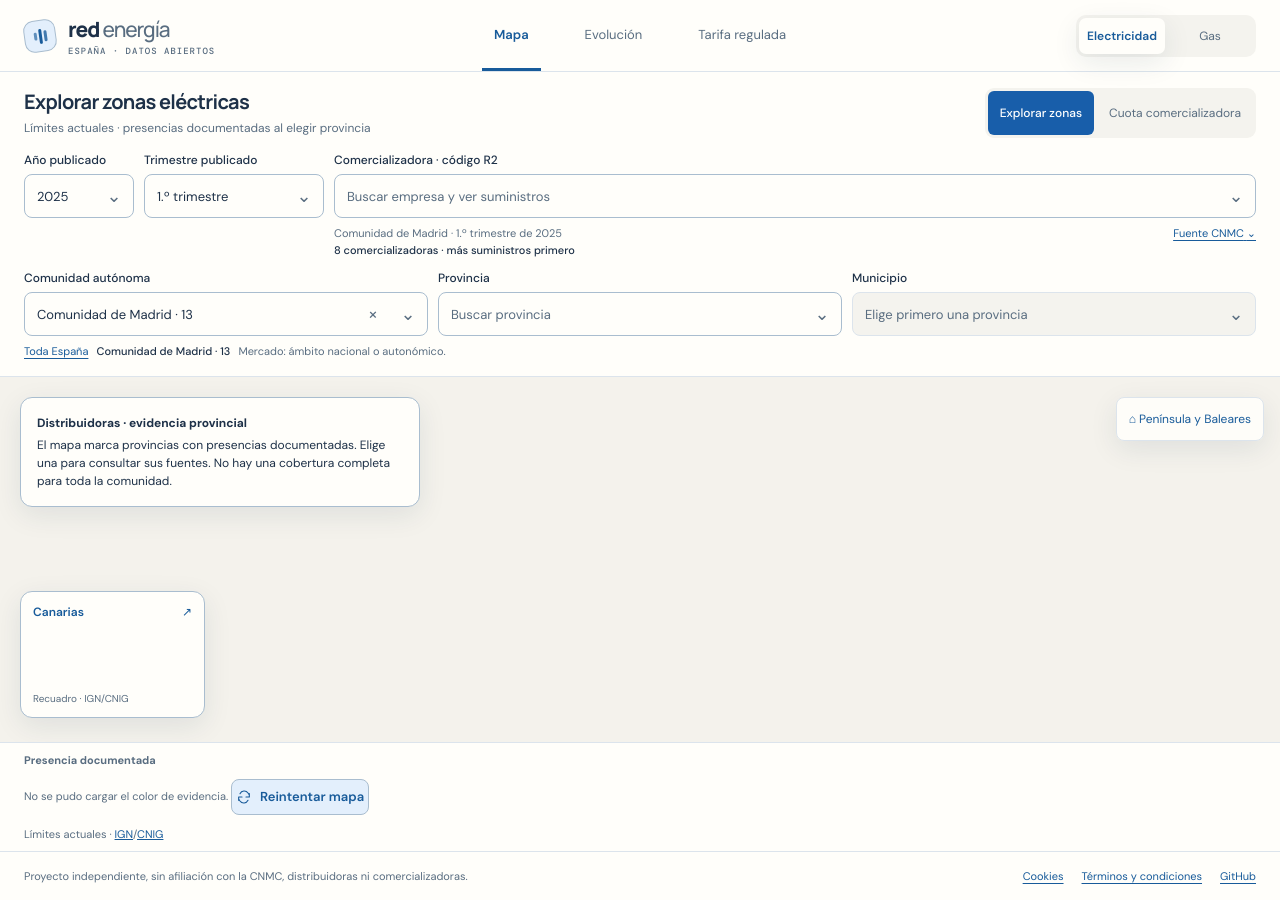
Test: map home route › shows supply counts in company search and selects without losing shared context
Check: the dropdown labelled "Comunidad autónoma" is enabled, box left=24, top=292, right=428, bottom=336
Focus the dropdown labelled "Comercializadora · código R2" at [795, 196], box left=334, top=174, right=1256, bottom=218
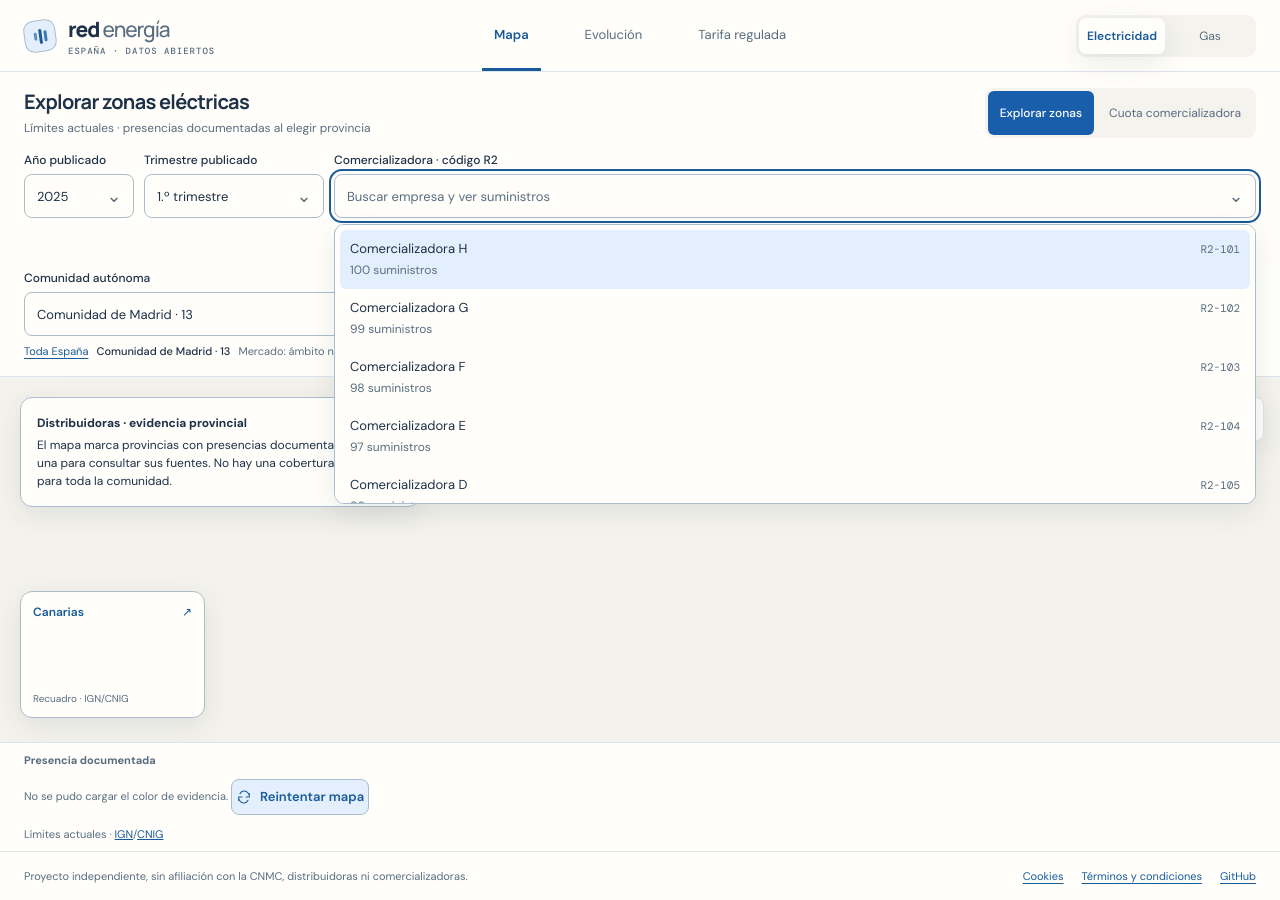
Check: the option "Comercializadora H R2-101 100 suministros" is shown, box left=340, top=230, right=1250, bottom=289
Type "r2-108" into the dropdown labelled "Comercializadora · código R2" at [795, 196], box left=334, top=174, right=1256, bottom=218
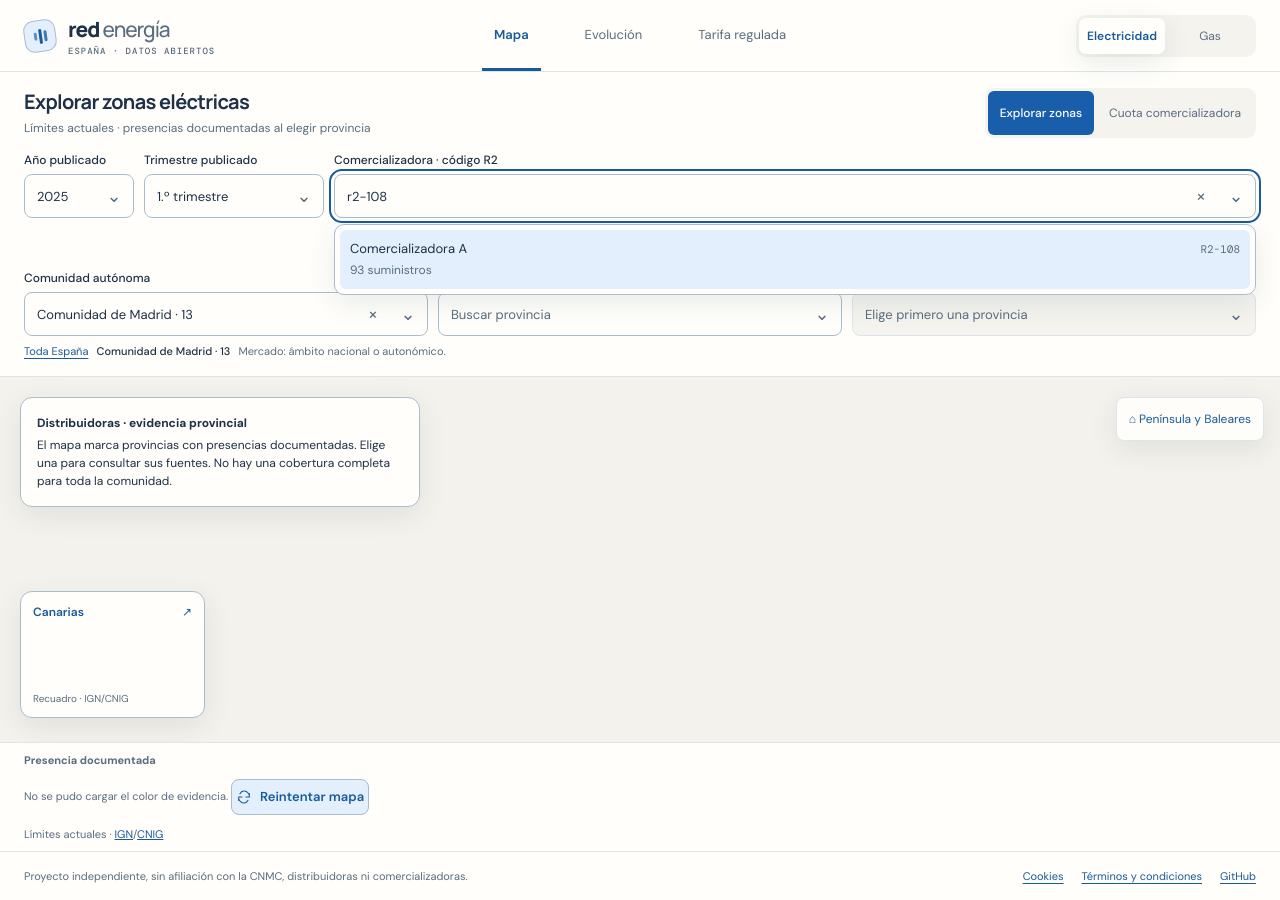
Check: the number of options is 1, box left=340, top=230, right=1250, bottom=289
Press Enter in the dropdown labelled "Comercializadora · código R2", box left=334, top=174, right=1256, bottom=218
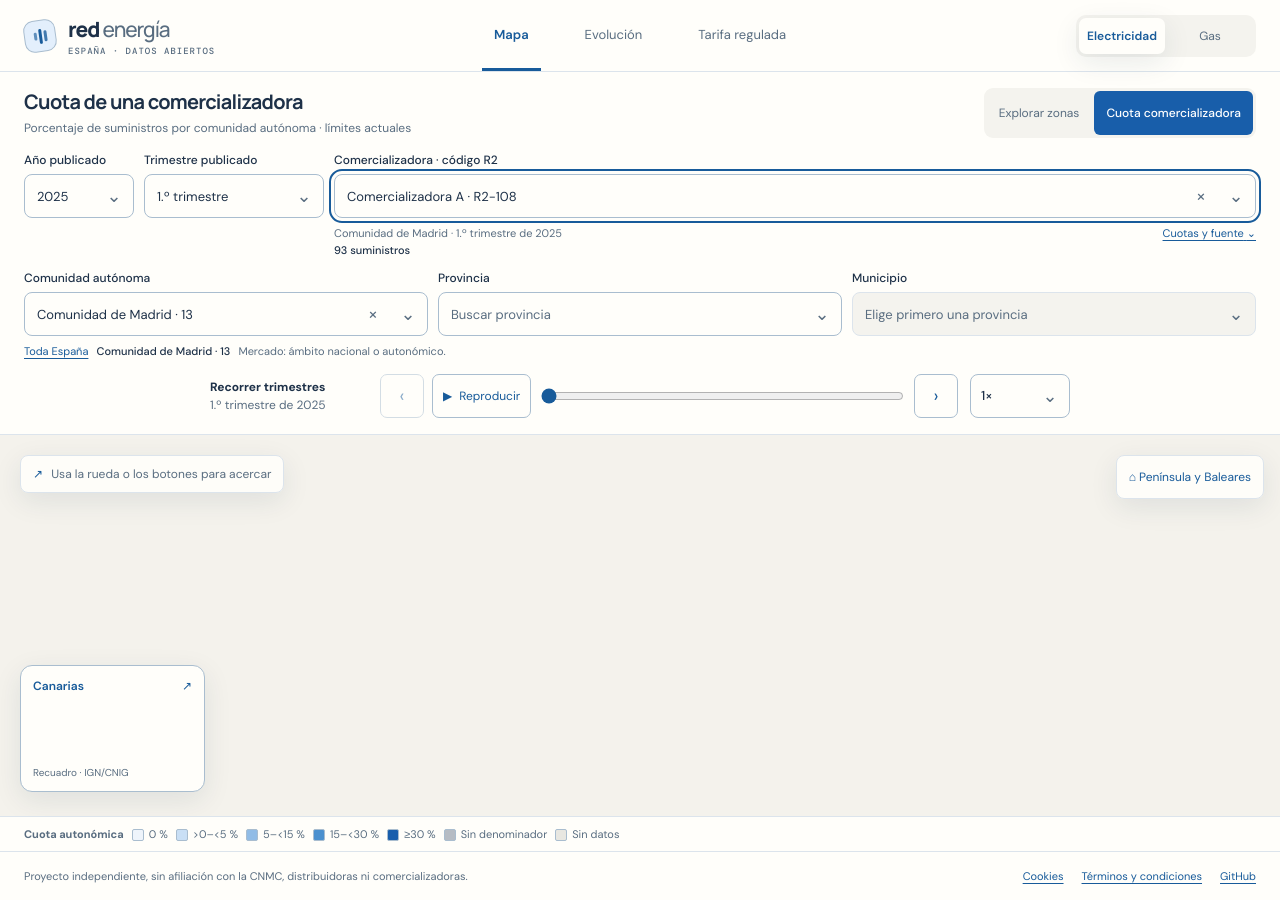
Check: the list is gone
Check: the text "93 suministros" is shown, box left=334, top=242, right=410, bottom=256
Replace the text in the dropdown labelled "Comercializadora · código R2" with "no match" at [795, 196], box left=334, top=174, right=1256, bottom=218
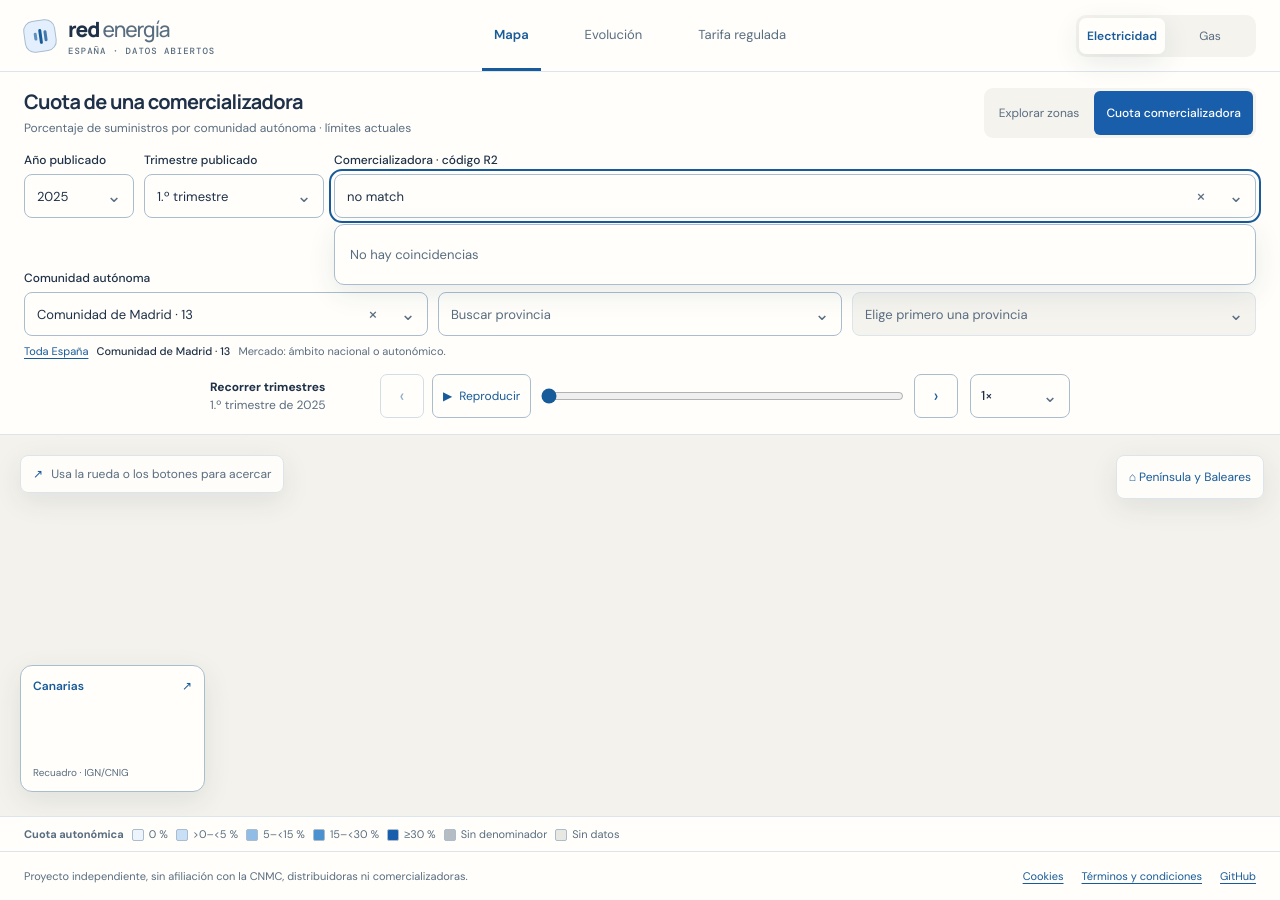
Check: the list item "No hay coincidencias" is shown, box left=350, top=246, right=479, bottom=263
